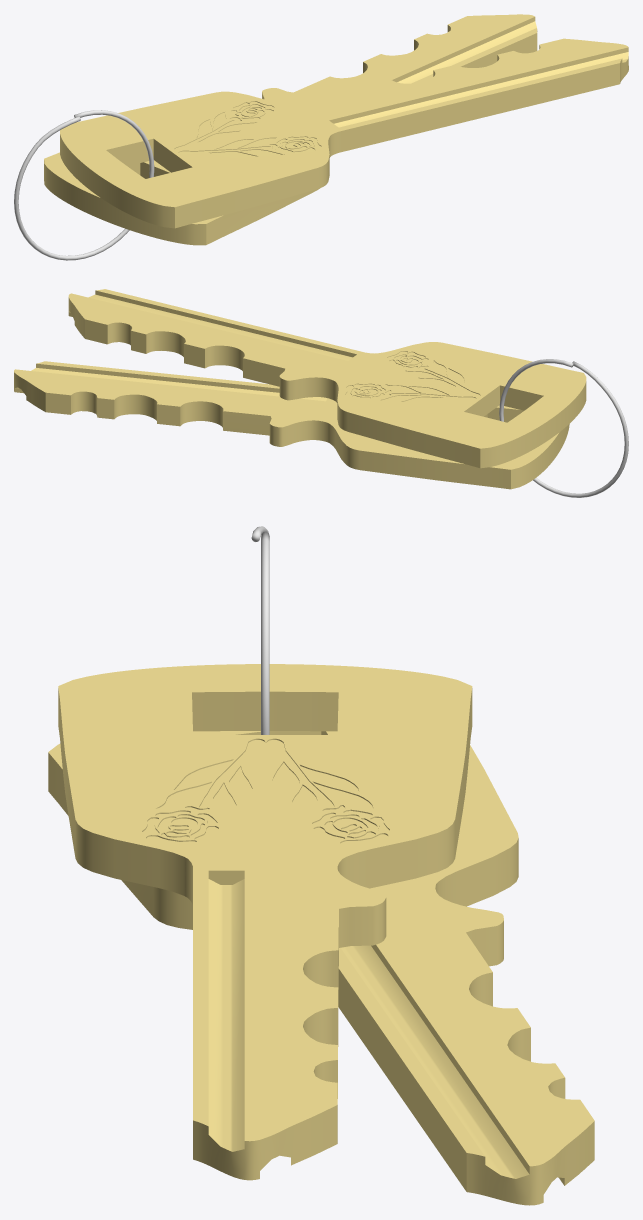
File: uploads_files_2458379_KEY.fbx
3 renders of one model, top to bottom at view 1: azimuth 30°, elevation 25°; view 2: azimuth 150°, elevation 25°; view 3: azimuth 270°, elevation 25°, orthographic. The views are drawn at different scales.
Visible parts, largest first — view 1: key_high_poly, key_low_poly, key_chain; view 2: key_high_poly, key_low_poly, key_chain; view 3: key_high_poly, key_low_poly, key_chain.
Part boxes in pixels (left/top/right/bottom): key_high_poly: left=60, top=38, right=628, bottom=228; key_low_poly: left=44, top=14, right=537, bottom=245; key_chain: left=14, top=110, right=154, bottom=260; key_high_poly: left=68, top=289, right=586, bottom=468; key_low_poly: left=14, top=361, right=569, bottom=489; key_chain: left=499, top=359, right=628, bottom=497; key_high_poly: left=58, top=664, right=472, bottom=1180; key_low_poly: left=48, top=731, right=594, bottom=1205; key_chain: left=251, top=526, right=269, bottom=734.
Bounding box in the file's own units: 618 × 142 × 260.
